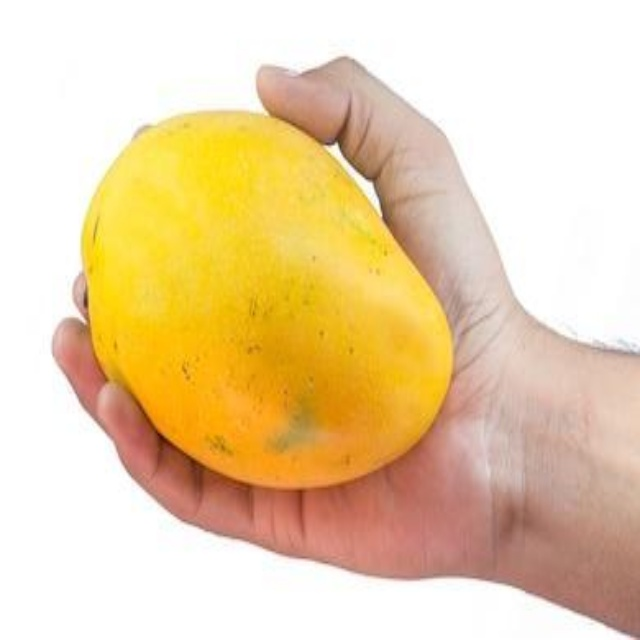mango: (76, 105, 453, 490)
